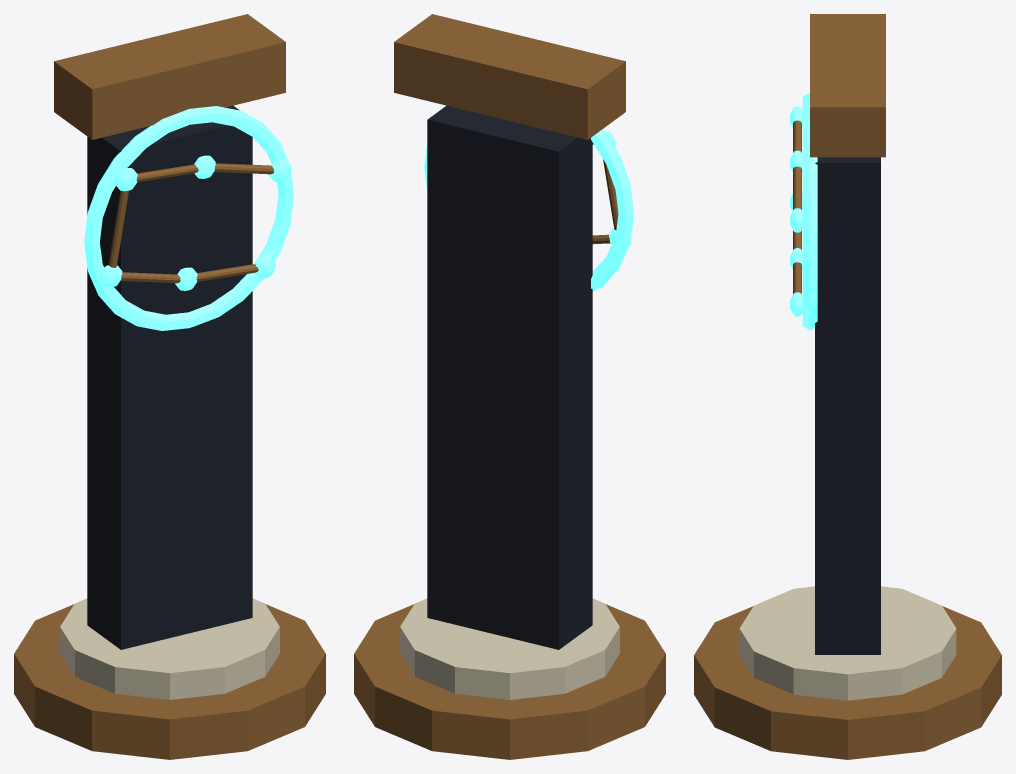
Rendered from runtime.glb.
The picture shows the model from 3 angles, left to right: view 1: azimuth 30°, elevation 25°; view 2: azimuth 150°, elevation 25°; view 3: azimuth 270°, elevation 25°; orthographic projection.
Visible parts, largest first — view 1: aetherion-zodiac-stele-v01_shaft_nocol, aetherion-zodiac-stele-v01_foot_nocol, aetherion-zodiac-stele-v01_shoulder_nocol, aetherion-zodiac-stele-v01_plinth_nocol, aetherion-zodiac-stele-v01_primary_orbit_nocol, aetherion-zodiac-stele-v01_constellation_link_02_nocol, aetherion-zodiac-stele-v01_constellation_link_04_nocol, aetherion-zodiac-stele-v01_constellation_link_01_nocol, aetherion-zodiac-stele-v01_constellation_link_00_nocol, aetherion-zodiac-stele-v01_constellation_link_03_nocol; view 2: aetherion-zodiac-stele-v01_shaft_nocol, aetherion-zodiac-stele-v01_foot_nocol, aetherion-zodiac-stele-v01_shoulder_nocol, aetherion-zodiac-stele-v01_plinth_nocol, aetherion-zodiac-stele-v01_primary_orbit_nocol; view 3: aetherion-zodiac-stele-v01_shaft_nocol, aetherion-zodiac-stele-v01_foot_nocol, aetherion-zodiac-stele-v01_plinth_nocol, aetherion-zodiac-stele-v01_shoulder_nocol, aetherion-zodiac-stele-v01_primary_orbit_nocol.
Boxes of the visible parts, bbox=[...] form: aetherion-zodiac-stele-v01_shaft_nocol: bbox=[87, 105, 252, 649]; aetherion-zodiac-stele-v01_foot_nocol: bbox=[14, 604, 325, 759]; aetherion-zodiac-stele-v01_shoulder_nocol: bbox=[54, 14, 285, 139]; aetherion-zodiac-stele-v01_plinth_nocol: bbox=[60, 598, 279, 699]; aetherion-zodiac-stele-v01_primary_orbit_nocol: bbox=[84, 106, 293, 330]; aetherion-zodiac-stele-v01_constellation_link_02_nocol: bbox=[108, 190, 128, 267]; aetherion-zodiac-stele-v01_constellation_link_04_nocol: bbox=[196, 264, 258, 281]; aetherion-zodiac-stele-v01_constellation_link_01_nocol: bbox=[136, 164, 198, 182]; aetherion-zodiac-stele-v01_constellation_link_00_nocol: bbox=[214, 163, 274, 174]; aetherion-zodiac-stele-v01_constellation_link_03_nocol: bbox=[120, 272, 180, 283]; aetherion-zodiac-stele-v01_shaft_nocol: bbox=[427, 105, 592, 649]; aetherion-zodiac-stele-v01_foot_nocol: bbox=[354, 604, 665, 759]; aetherion-zodiac-stele-v01_shoulder_nocol: bbox=[394, 14, 625, 139]; aetherion-zodiac-stele-v01_plinth_nocol: bbox=[400, 598, 619, 699]; aetherion-zodiac-stele-v01_primary_orbit_nocol: bbox=[424, 105, 633, 291]; aetherion-zodiac-stele-v01_shaft_nocol: bbox=[815, 157, 880, 654]; aetherion-zodiac-stele-v01_foot_nocol: bbox=[694, 606, 1001, 759]; aetherion-zodiac-stele-v01_plinth_nocol: bbox=[739, 586, 956, 700]; aetherion-zodiac-stele-v01_shoulder_nocol: bbox=[810, 14, 885, 157]; aetherion-zodiac-stele-v01_primary_orbit_nocol: bbox=[802, 93, 817, 330].
Size of the model in its own units: 3.9 by 8.87 by 3.9.
